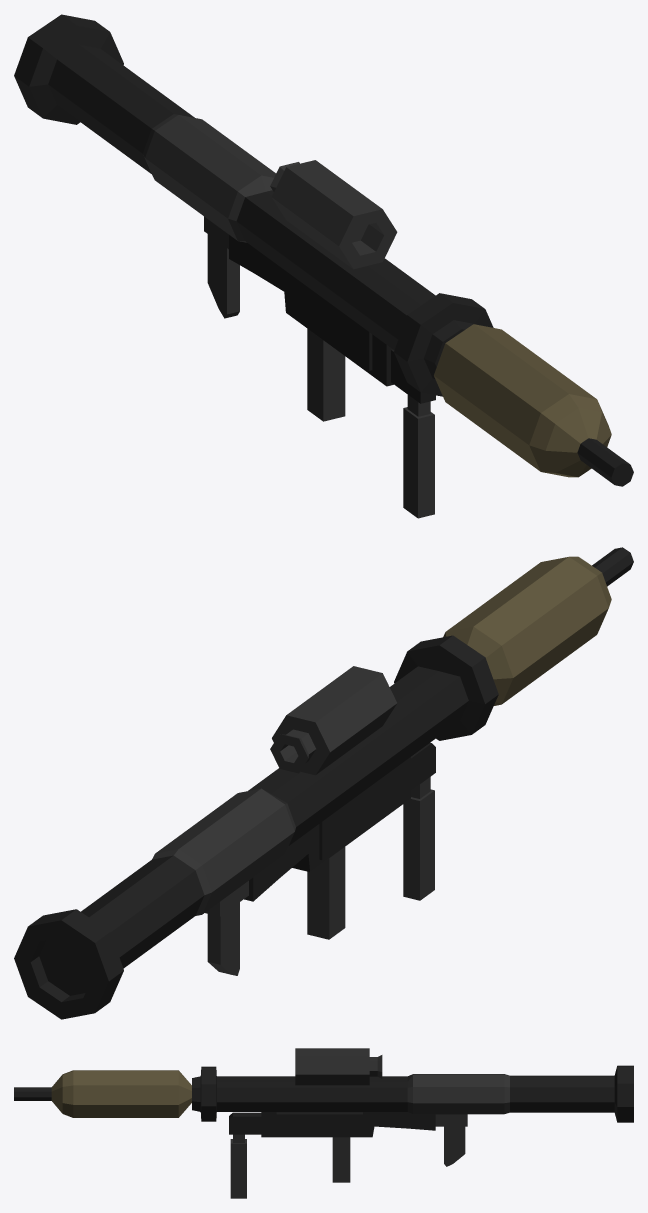
The model's file is Lvl2_Kraken_Gun_Model.fbx.
The picture shows the model from 3 angles, top to bottom: view 1: azimuth 30°, elevation 25°; view 2: azimuth 150°, elevation 25°; view 3: azimuth 270°, elevation 25°; orthographic projection. The views are drawn at different scales.
Parts seen in each view (by area): view 1: Cylinder.019; view 2: Cylinder.019; view 3: Cylinder.019.
Boxes of the visible parts, x1,y1,x2,y2 form: Cylinder.019: (14,14,633,518); Cylinder.019: (14,547,633,1019); Cylinder.019: (14,1048,633,1198).
Bounding box in the file's own units: 27.31 × 71.73 × 280.
